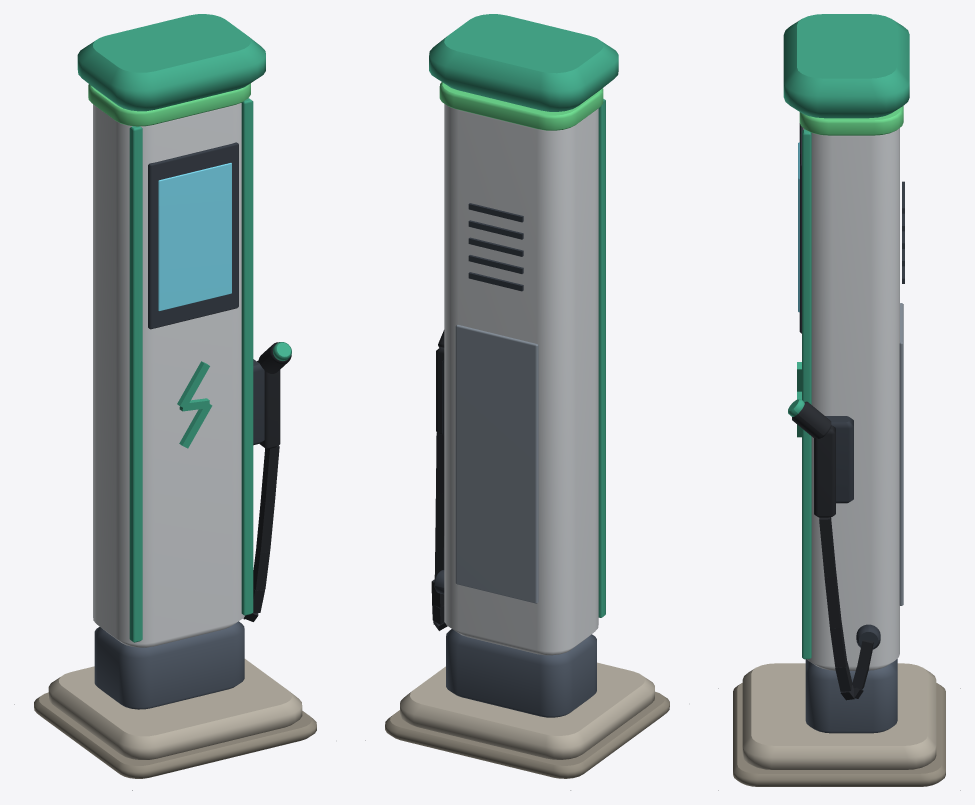
Rendered from borne_recharge.glb.
3 views of the same model, side by side, from view 1: azimuth 30°, elevation 25°; view 2: azimuth 150°, elevation 25°; view 3: azimuth 270°, elevation 25° (orthographic). The views are drawn at different scales.
Visible parts, largest first — view 1: pieces_av_blanc.004, pieces_av_vert.004, pieces_av_socle.002, voyant_ecran_av_ecran.004, pieces_av_sombre.006, pieces_av_fonce.006, pieces_av_socle_sombre.002, pieces_av_cable.004, voyant_charge_av_voyant_vert.002; view 2: pieces_av_blanc.004, pieces_av_gris.004, pieces_av_vert.004, pieces_av_socle.002, pieces_av_sombre.006, pieces_av_socle_sombre.002, voyant_charge_av_voyant_vert.002, pieces_av_fonce.006, pieces_av_cable.004; view 3: pieces_av_blanc.004, pieces_av_vert.004, pieces_av_socle.002, pieces_av_cable.004, pieces_av_socle_sombre.002, pieces_av_sombre.006, pieces_av_fonce.006, voyant_charge_av_voyant_vert.002, pieces_av_gris.004.
Boxes of the visible parts, x1,y1,x2,y2 form: pieces_av_blanc.004: [93, 103, 244, 647]; pieces_av_vert.004: [77, 14, 291, 642]; pieces_av_socle.002: [48, 659, 302, 759]; voyant_ecran_av_ecran.004: [158, 163, 231, 311]; pieces_av_sombre.006: [94, 621, 244, 709]; pieces_av_fonce.006: [148, 142, 264, 445]; pieces_av_socle_sombre.002: [34, 692, 316, 778]; pieces_av_cable.004: [243, 342, 291, 621]; voyant_charge_av_voyant_vert.002: [88, 83, 250, 126]; pieces_av_blanc.004: [444, 104, 598, 655]; pieces_av_gris.004: [455, 325, 538, 603]; pieces_av_vert.004: [429, 14, 618, 617]; pieces_av_socle.002: [400, 662, 654, 759]; pieces_av_sombre.006: [446, 629, 596, 717]; pieces_av_socle_sombre.002: [385, 691, 669, 778]; voyant_charge_av_voyant_vert.002: [439, 82, 603, 130]; pieces_av_fonce.006: [434, 203, 523, 594]; pieces_av_cable.004: [431, 330, 447, 630]; pieces_av_blanc.004: [803, 128, 899, 670]; pieces_av_vert.004: [783, 14, 909, 659]; pieces_av_socle.002: [742, 663, 936, 769]; pieces_av_cable.004: [792, 401, 873, 700]; pieces_av_socle_sombre.002: [733, 683, 945, 786]; pieces_av_sombre.006: [805, 659, 897, 733]; pieces_av_fonce.006: [799, 123, 904, 649]; voyant_charge_av_voyant_vert.002: [799, 106, 903, 135]; pieces_av_gris.004: [899, 303, 903, 605].
Bounding box in the file's own units: 0.5 × 1.58 × 0.5.
